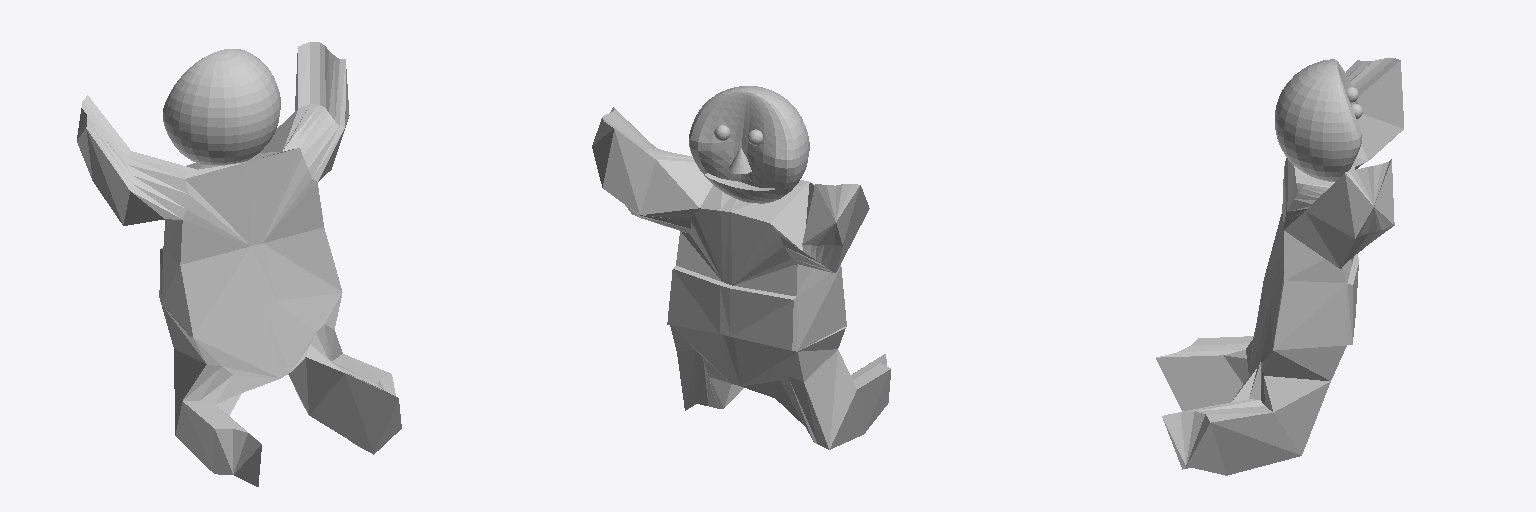
The model's file is manjump_000014.obj.
The picture shows the model from 3 angles: view 1: azimuth 30°, elevation 25°; view 2: azimuth 150°, elevation 25°; view 3: azimuth 270°, elevation 25°; orthographic projection.
Visible parts, largest first — view 1: Cube; view 2: Cube; view 3: Cube.
Part boxes in pixels (left/top/right/bottom): Cube: left=77, top=42, right=401, bottom=486; Cube: left=592, top=86, right=890, bottom=449; Cube: left=1156, top=58, right=1403, bottom=475.
Bounding box in the file's own units: 81.47 × 111 × 66.9.